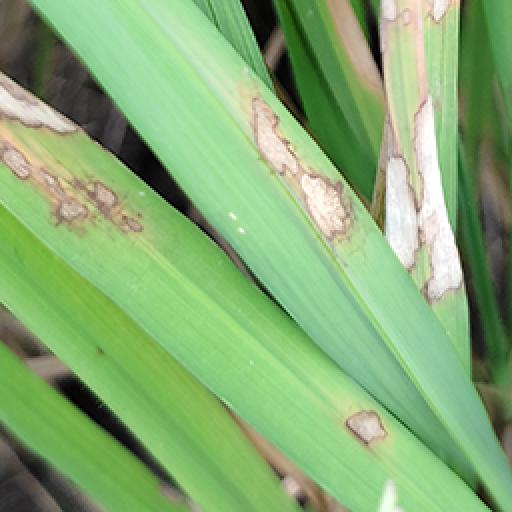Leaf Blast Disease: (360, 0, 468, 322), (0, 68, 172, 242), (242, 94, 368, 254), (332, 400, 394, 456)
